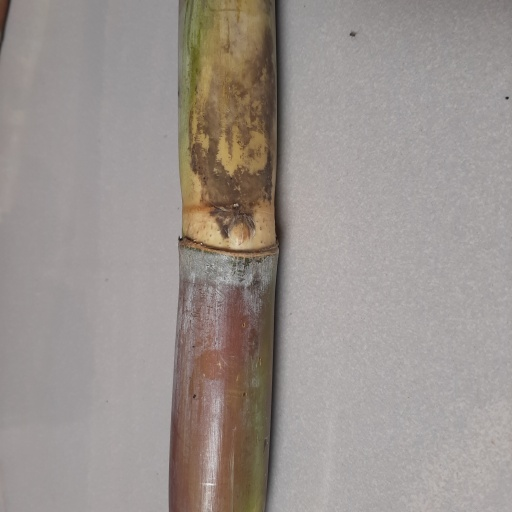Bud: (227, 220, 252, 246)
